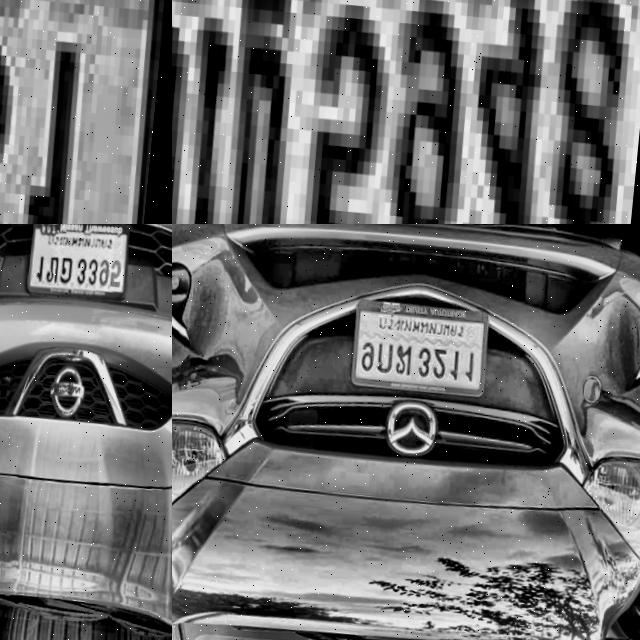license-plate: (172, 0, 640, 224), (0, 0, 172, 224), (352, 288, 495, 391), (21, 224, 138, 297)
